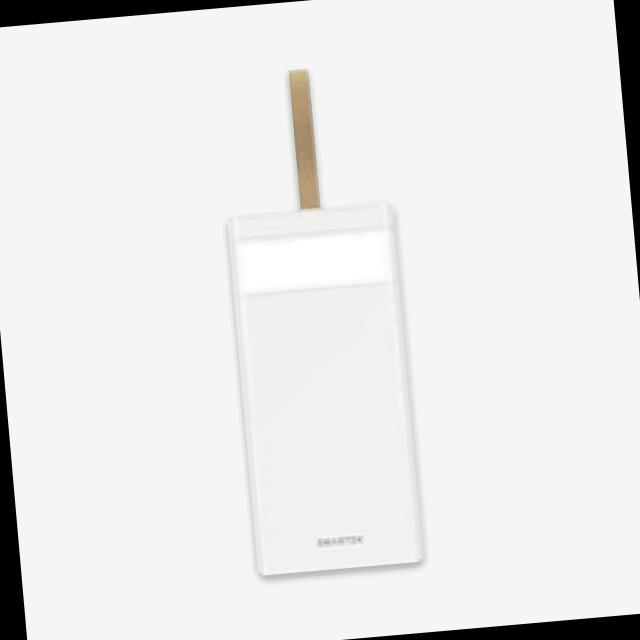power_bank: (220, 196, 434, 589)
